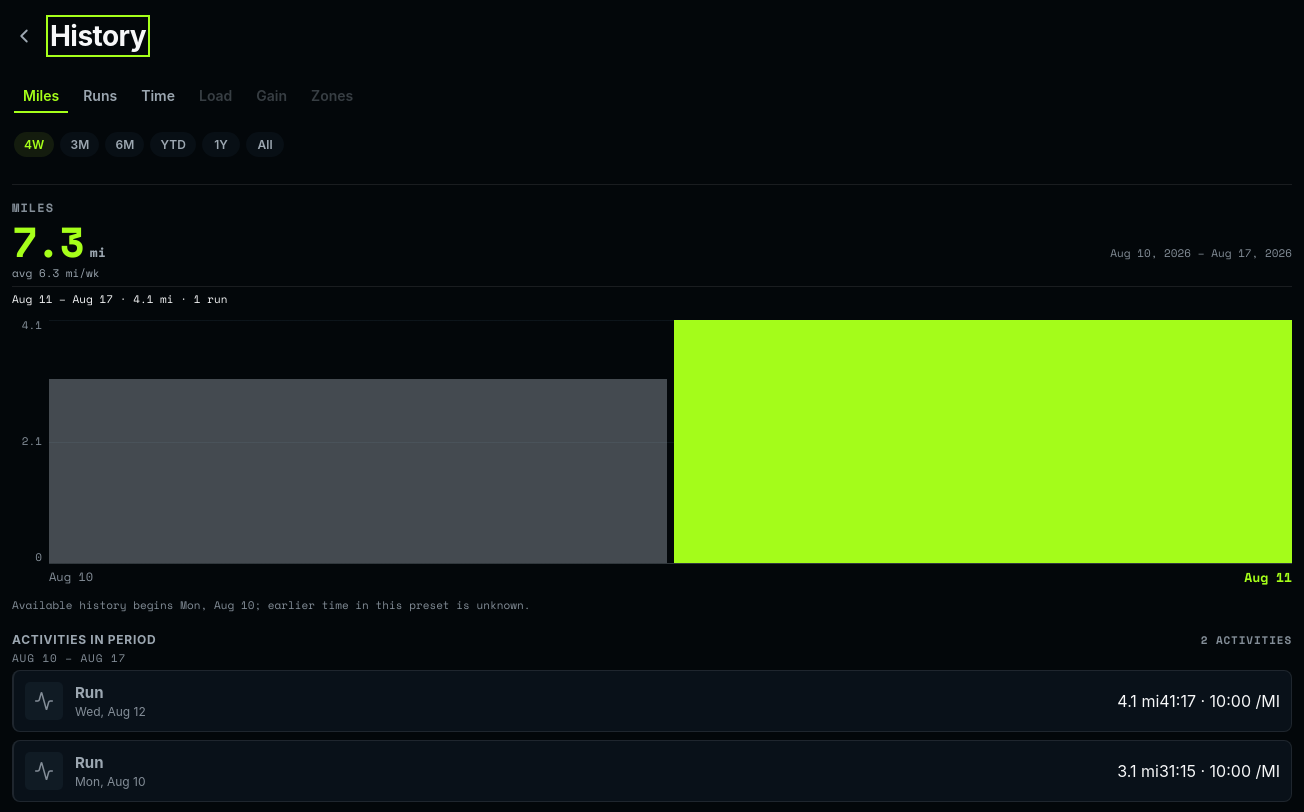
it: History Explorer readout › presents mileage at one decimal rather than leaking aggregation precision
Check: the text "7.3" is shown, box [12,220,83,262]
Click the tab "Runs" at point(100, 98), box [72,76,128,120]
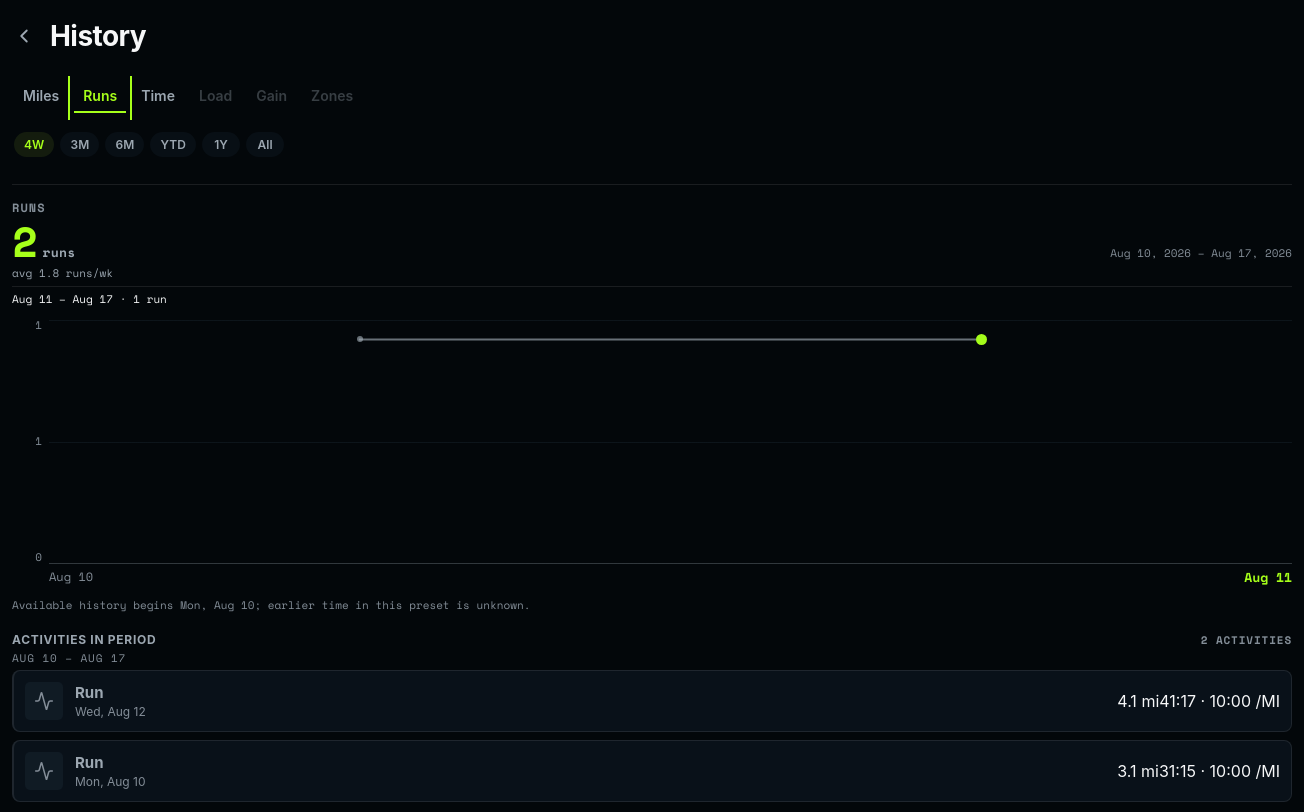
Check: the text "2" is shown, box [12,220,36,262]
